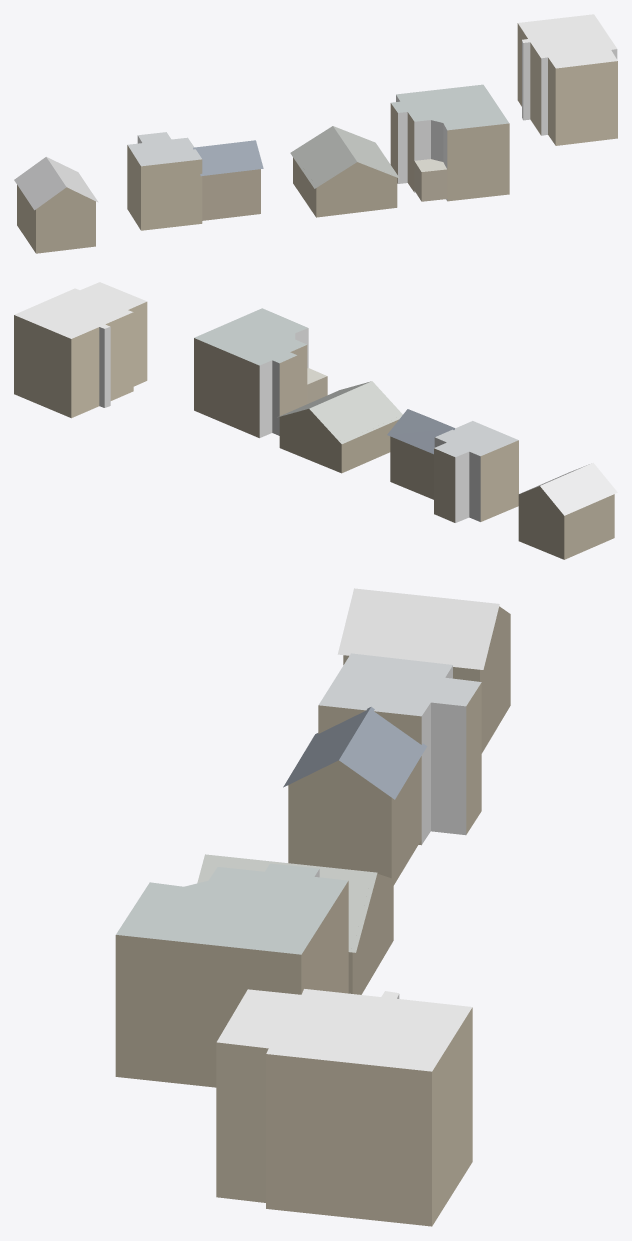
3 views of the same model, one above another, from view 1: azimuth 30°, elevation 25°; view 2: azimuth 150°, elevation 25°; view 3: azimuth 270°, elevation 25° (orthographic). The views are drawn at different scales.
Visible parts, largest first — view 1: tuile; view 2: tuile; view 3: tuile.
Boxes of the visible parts, x1,y1,x2,y2 form: tuile: (14,14,617,253); tuile: (14,282,617,559); tuile: (115,588,510,1226).
Bounding box in the file's own units: 102 × 15.04 × 30.63.
